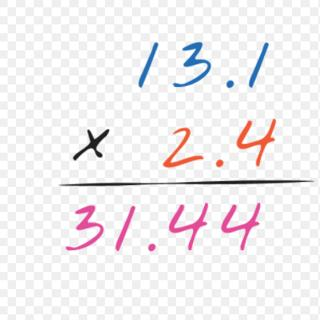.: (142, 234, 160, 257), (223, 74, 241, 91), (214, 154, 228, 172)
1: (110, 199, 139, 258), (245, 38, 275, 92), (134, 36, 160, 89)
2: (163, 123, 205, 168)
3: (169, 37, 214, 90), (62, 203, 106, 253)
4: (219, 199, 264, 253), (166, 199, 210, 254), (236, 116, 281, 168)
